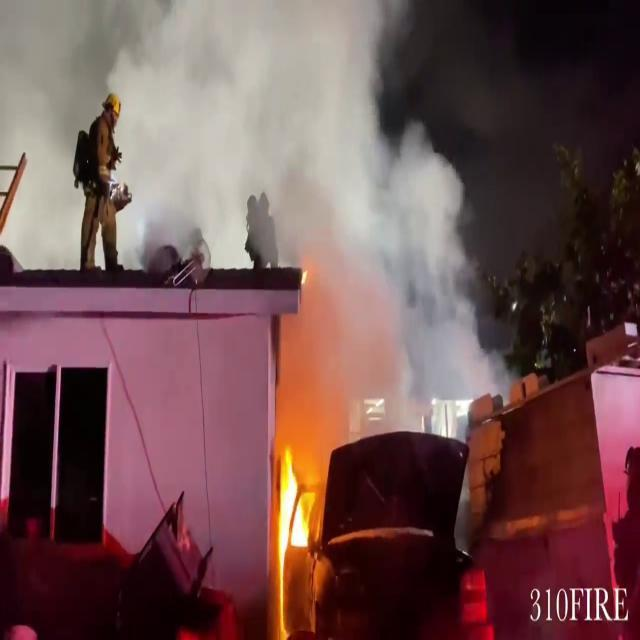Fire: (272, 442, 314, 570)
Smoke: (0, 0, 505, 396), (1, 0, 503, 255), (254, 0, 506, 418)
